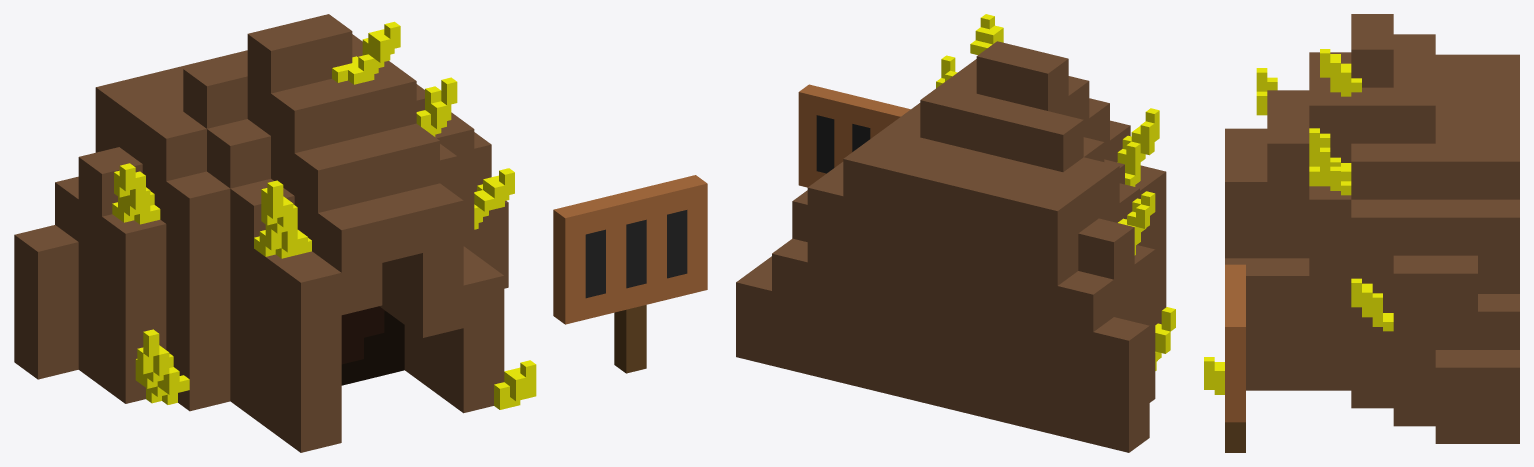
Rendered from Cave_03.obj.
3 views of the same model, side by side, from view 1: azimuth 30°, elevation 25°; view 2: azimuth 150°, elevation 25°; view 3: azimuth 270°, elevation 25° (orthographic). The views are drawn at different scales.
Bounding box in the file's own units: 5.2 × 3.3 × 3.
